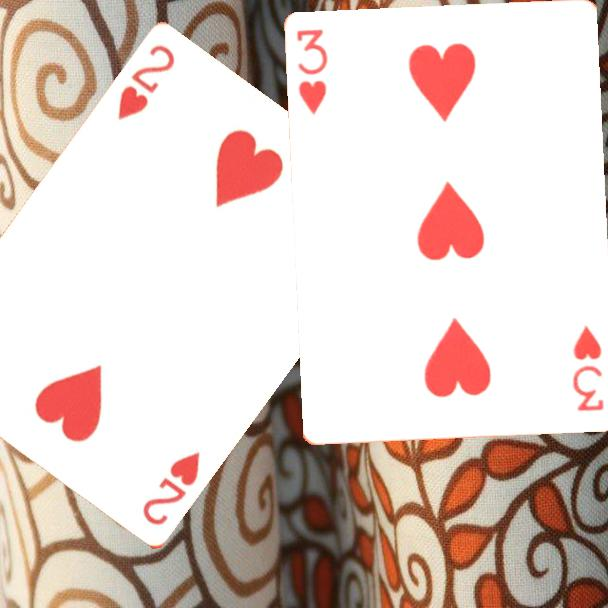h02: (139, 448, 204, 529), (114, 42, 178, 124)
h03: (569, 322, 607, 415), (293, 26, 331, 118)
